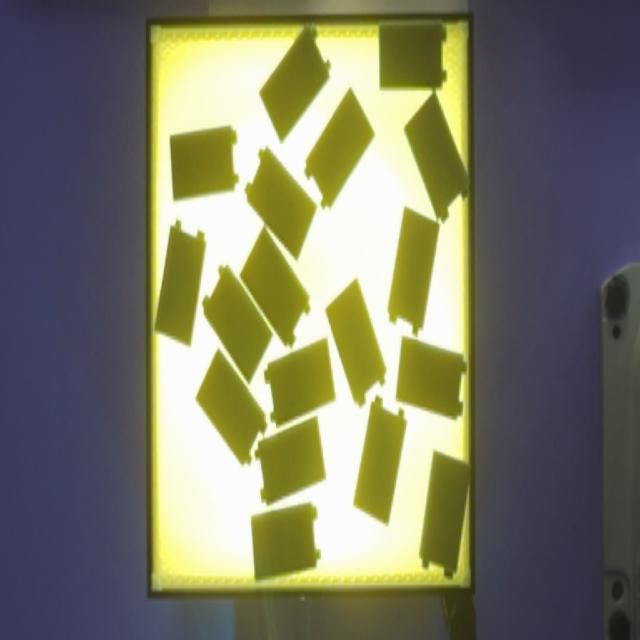bateria: (405, 91, 471, 223), (304, 87, 375, 209), (259, 23, 331, 143), (239, 227, 311, 347), (202, 264, 273, 384), (196, 348, 268, 465), (245, 146, 317, 260), (325, 276, 386, 405), (353, 394, 407, 524), (418, 450, 472, 578), (387, 206, 440, 335), (154, 220, 206, 347), (264, 337, 335, 428), (255, 416, 326, 505), (396, 335, 467, 421), (251, 503, 321, 580), (170, 125, 238, 200), (380, 19, 447, 89)
mesa: (146, 13, 474, 600)
